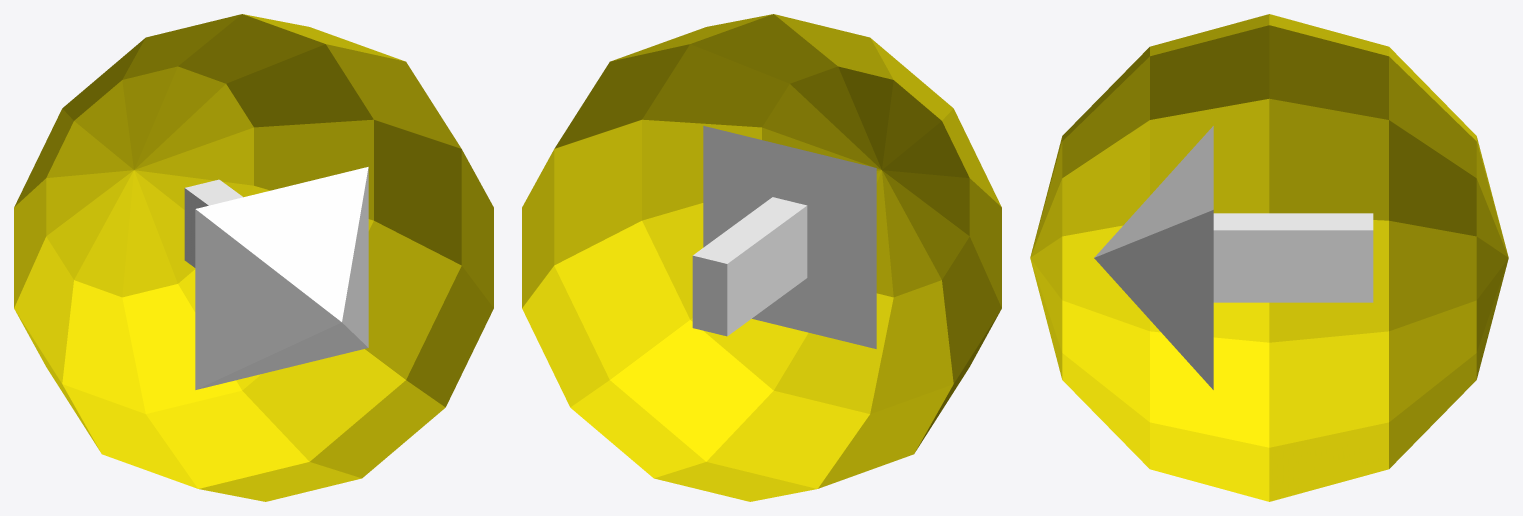
File: jump_orb.glb
The picture shows the model from 3 angles, left to right: view 1: azimuth 30°, elevation 25°; view 2: azimuth 150°, elevation 25°; view 3: azimuth 270°, elevation 25°; orthographic projection.
Visible parts, largest first — view 1: sphere, pyramid, cube; view 2: sphere, pyramid, cube; view 3: sphere, pyramid, cube.
Part boxes in pixels (x1,y1,x2,y2): sphere: (14,14,493,501); pyramid: (195,167,368,389); cube: (184,179,242,267); sphere: (522,14,1001,501); pyramid: (703,126,876,348); cube: (692,197,807,336); sphere: (1030,14,1508,501); pyramid: (1094,126,1213,389); cube: (1213,213,1373,302).
Size of the model in its own units: 0.75 by 0.75 by 0.75.
Materials: 2 (2 with a texture image).
